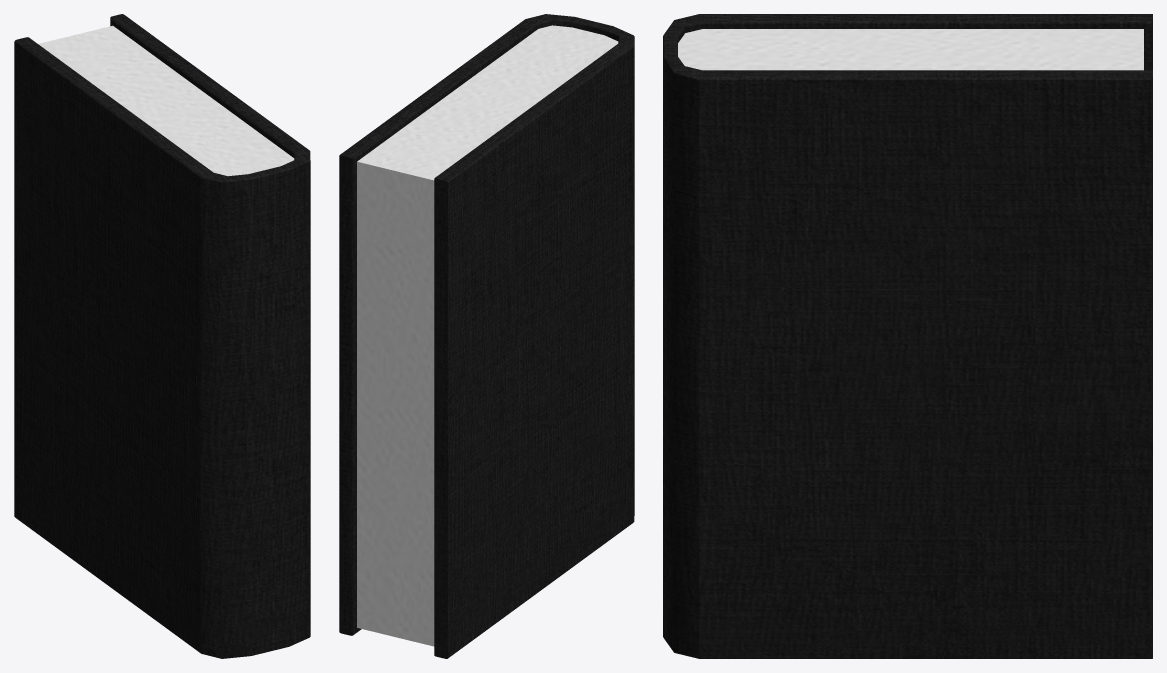
The model's file is SM_book5.fbx.
The picture shows the model from 3 angles, left to right: view 1: azimuth 30°, elevation 25°; view 2: azimuth 150°, elevation 25°; view 3: azimuth 270°, elevation 25°; orthographic projection. The views are drawn at different scales.
Parts seen in each view (by area): view 1: book2; view 2: book2; view 3: book2.
Boxes of the visible parts, x1,y1,x2,y2 form: book2: [14, 14, 310, 658]; book2: [339, 14, 634, 658]; book2: [663, 14, 1152, 658].
Bounding box in the file's own units: 6.27 × 26.15 × 19.95.
